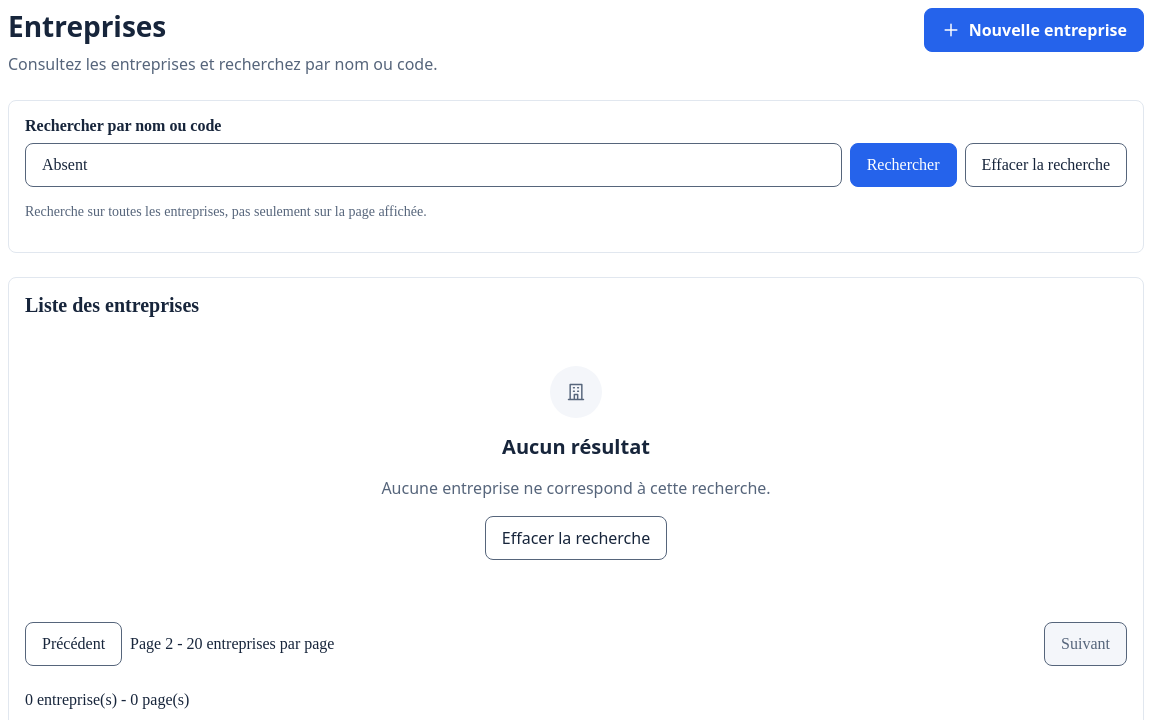
Test case: Companies list page and URL integration › clears search without an empty search parameter
Click the 1st button "Effacer la recherche": (1046, 165) 964,143 -> 1127,187
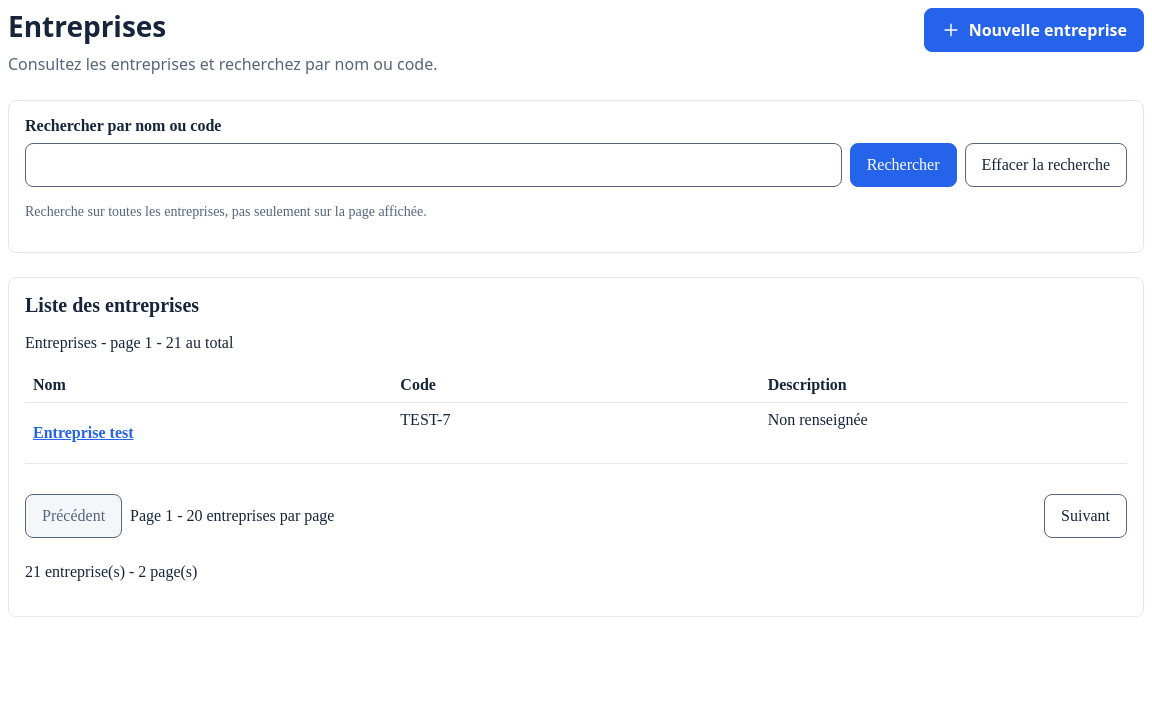
Expected: the search field with id "company-search" is empty, 25,143 -> 842,187
